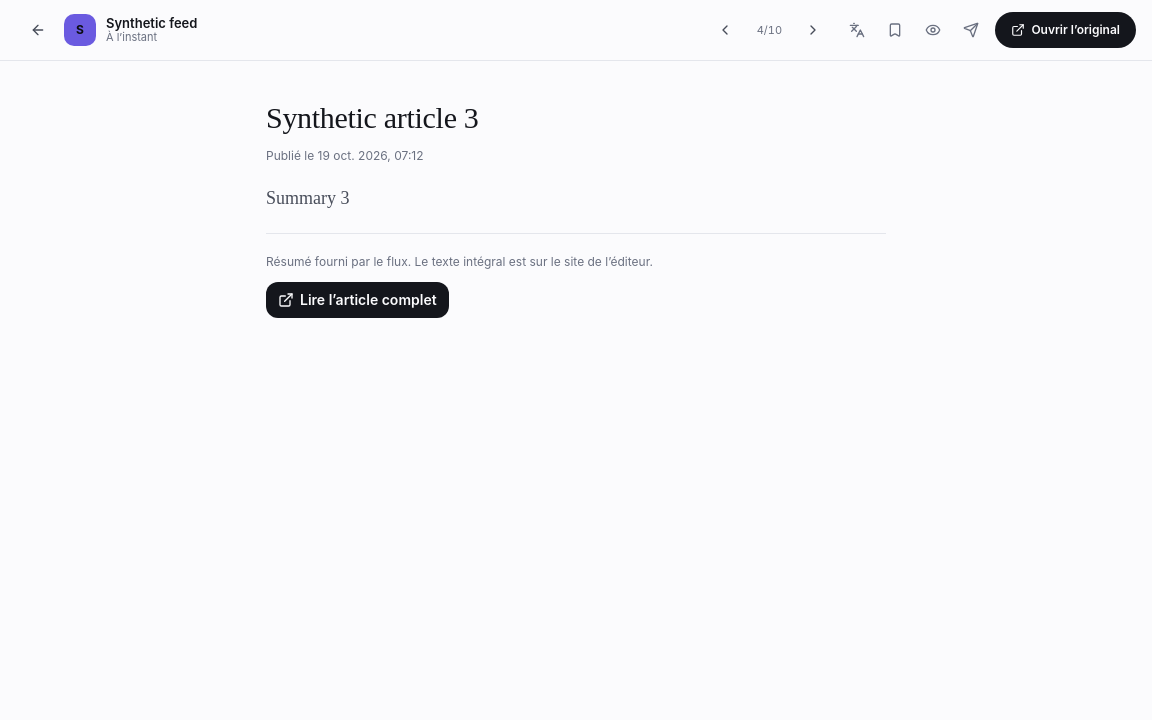
Test: RssReadingPane sharing › copies the formatted article when the platform has no share card
Step 1. Click the button named "Partager l’article" → (971, 30), box [953,12,989,48]
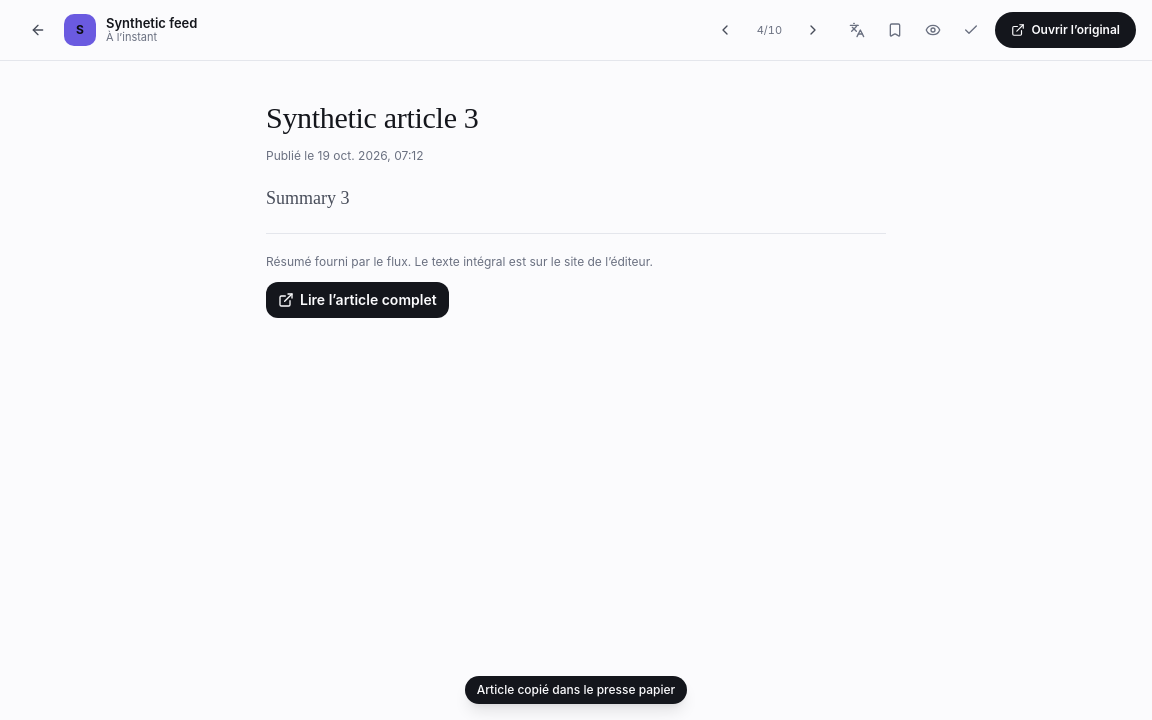
Check: the text "Article copié dans le presse papier" is shown, box [465,676,687,704]
